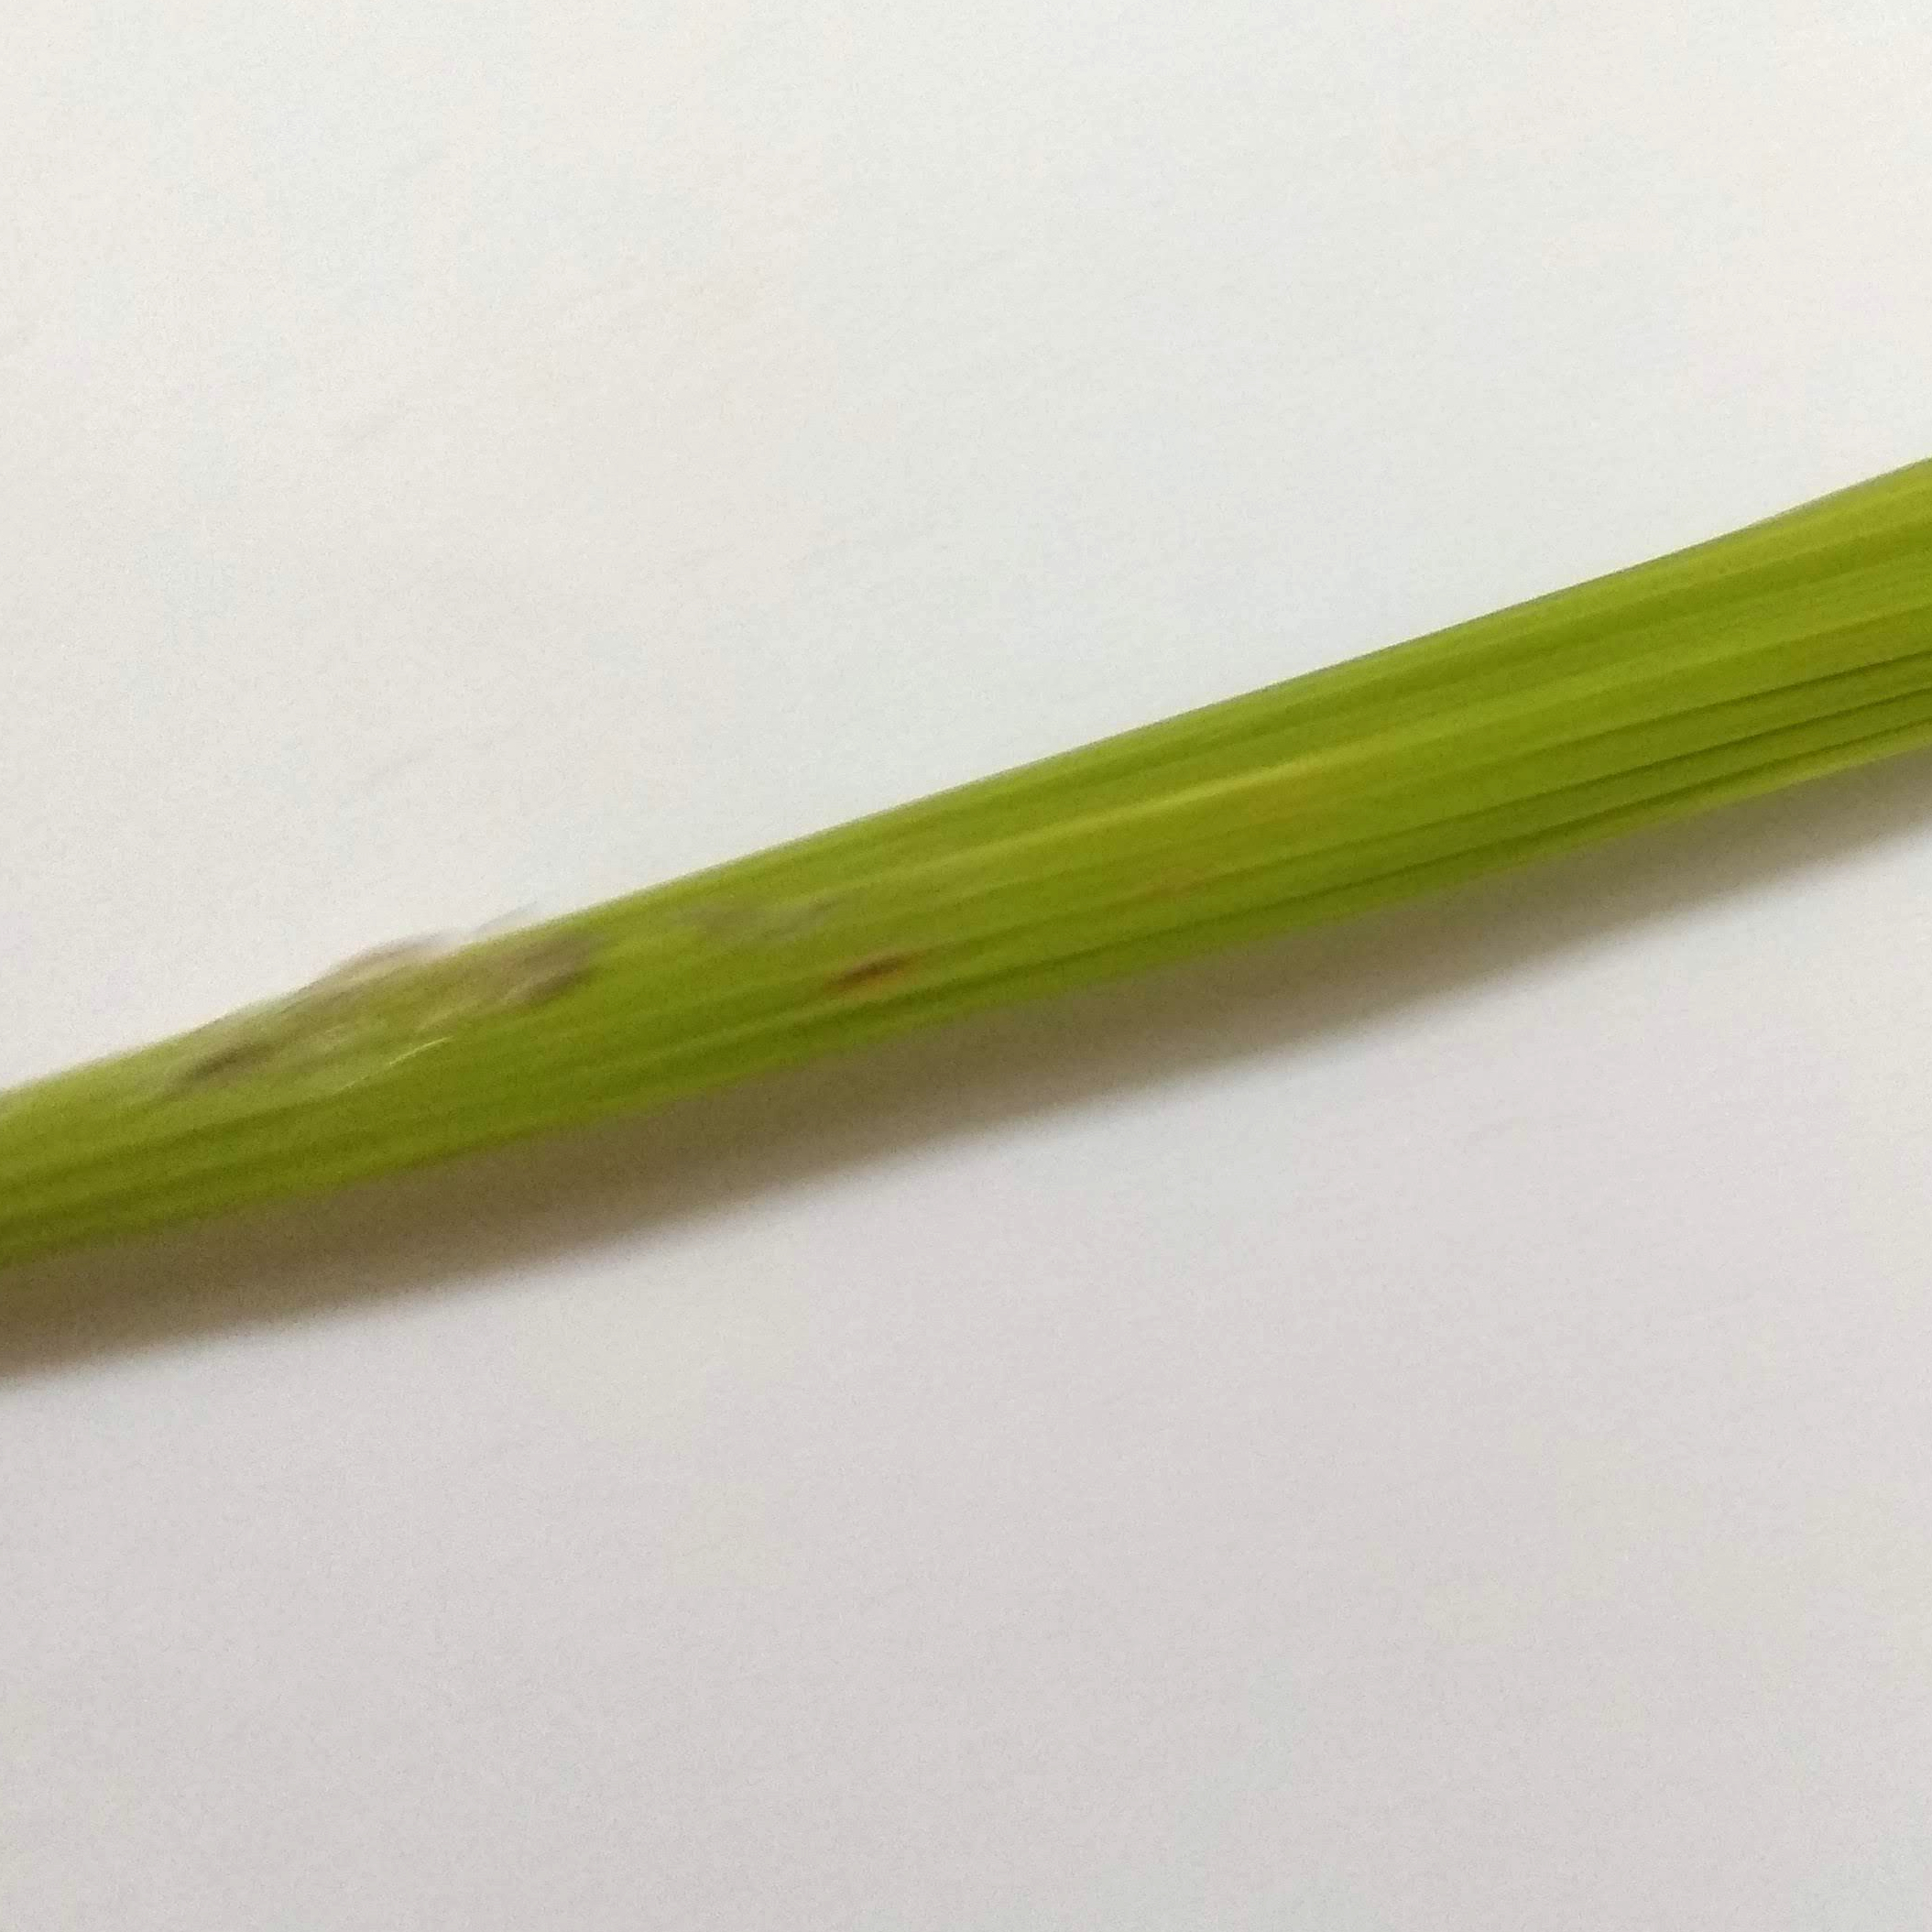brown spot: (495, 931, 603, 1017), (803, 947, 922, 1007)
